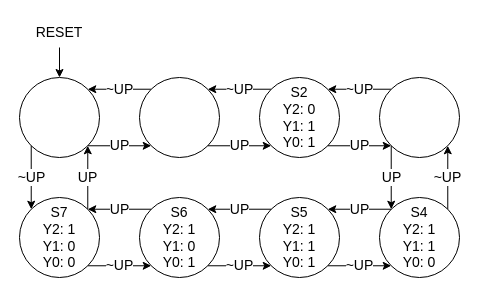
Image size: 479x295. Some labels were removed from this diagram. Here are the shapes that lost their labels. From the top down, the centre of each, then its label:
point (59, 117): S0 Y2: 0 Y1: 0 Y0: 0
point (179, 117): S1 Y2: 0 Y1: 0 Y0: 1
point (419, 117): S3 Y2: 0 Y1: 1 Y0: 0
